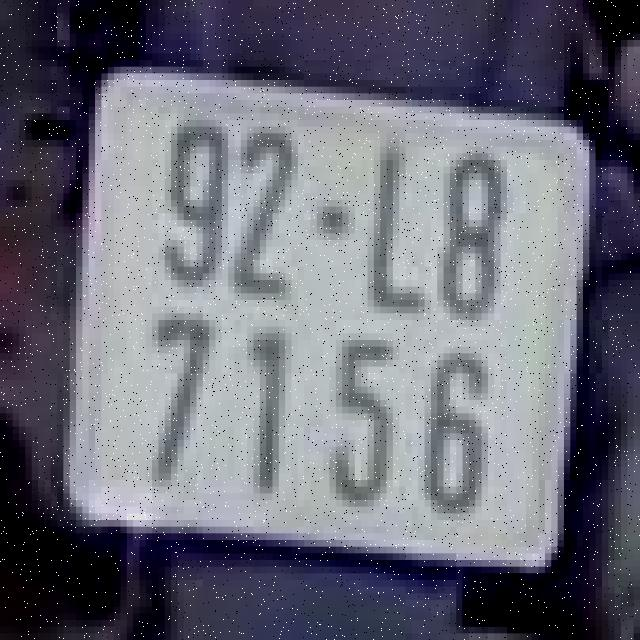1: (241, 324, 291, 504)
2: (238, 120, 301, 320)
5: (320, 327, 402, 513)
6: (418, 340, 501, 513)
7: (142, 310, 218, 490)
8: (437, 137, 520, 330)
9: (158, 107, 234, 300)
L: (352, 127, 434, 313)
